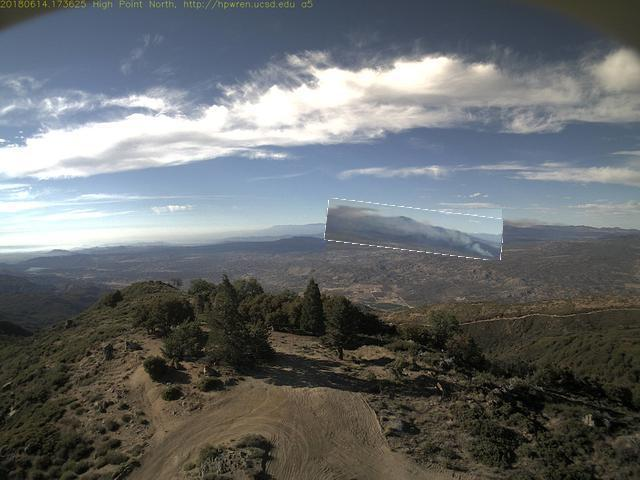smoke: (326, 205, 505, 257)
